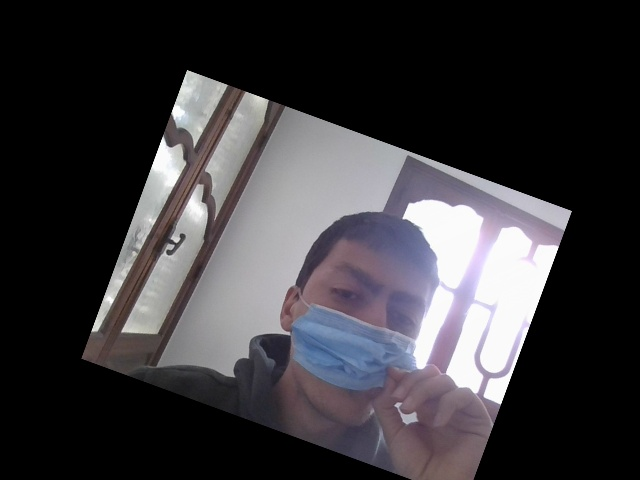mask_weared_incorrect: (296, 220, 436, 419)
